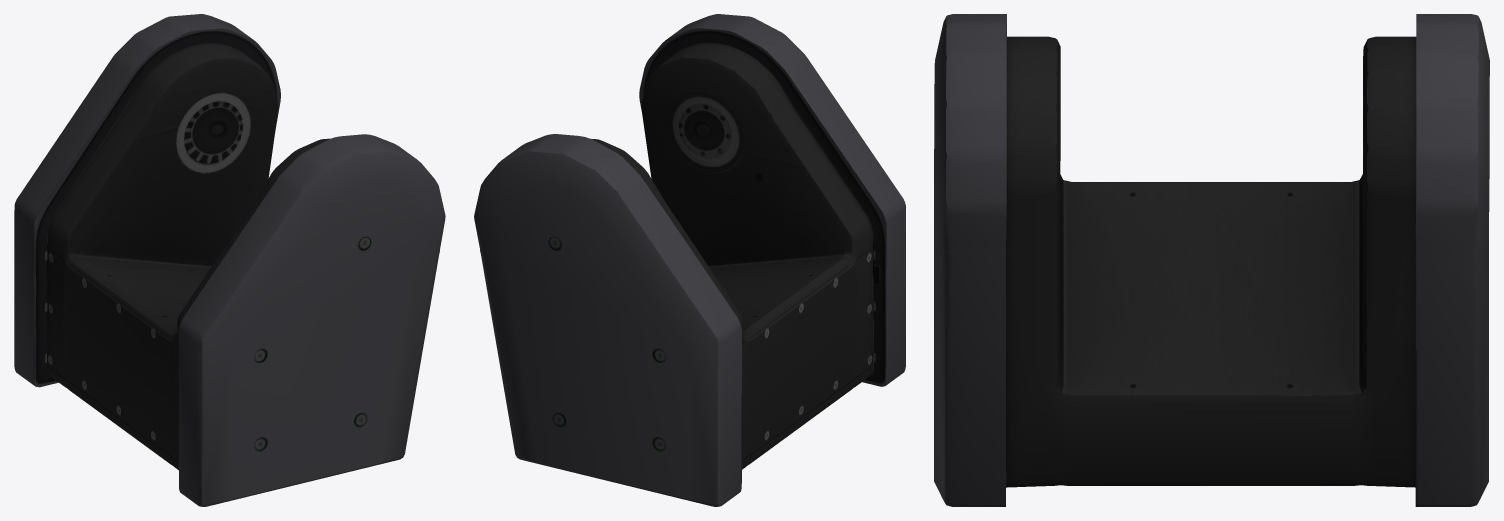
Rendered from pan.obj.
The picture shows the model from 3 angles, left to right: view 1: azimuth 30°, elevation 25°; view 2: azimuth 150°, elevation 25°; view 3: azimuth 270°, elevation 25°; orthographic projection. The views are drawn at different scales.
Visible parts, largest first — view 1: Cube_003-mesh; view 2: Cube_003-mesh; view 3: Cube_003-mesh.
Boxes of the visible parts, x1,y1,x2,y2 form: Cube_003-mesh: (14, 14, 445, 506); Cube_003-mesh: (474, 14, 905, 506); Cube_003-mesh: (934, 14, 1489, 506).
Bounding box in the file's own units: 0.1668 × 0.2058 × 0.2294.
1 material, 1 textured.
